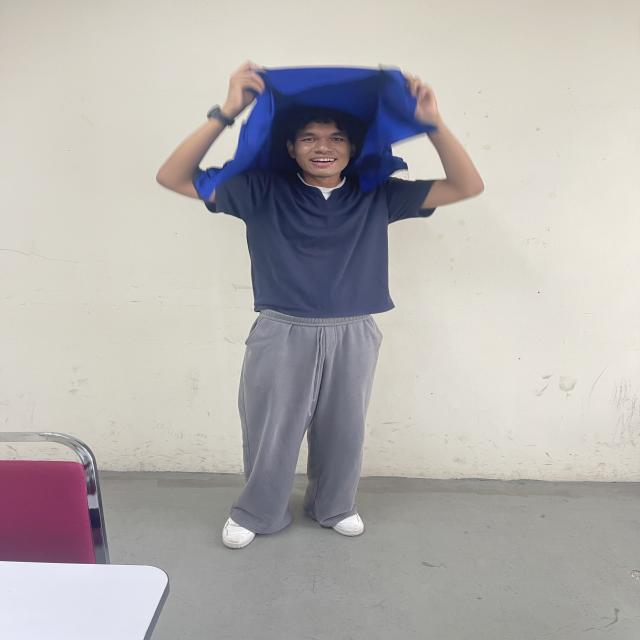person_without_labcoat: (157, 64, 483, 548)
